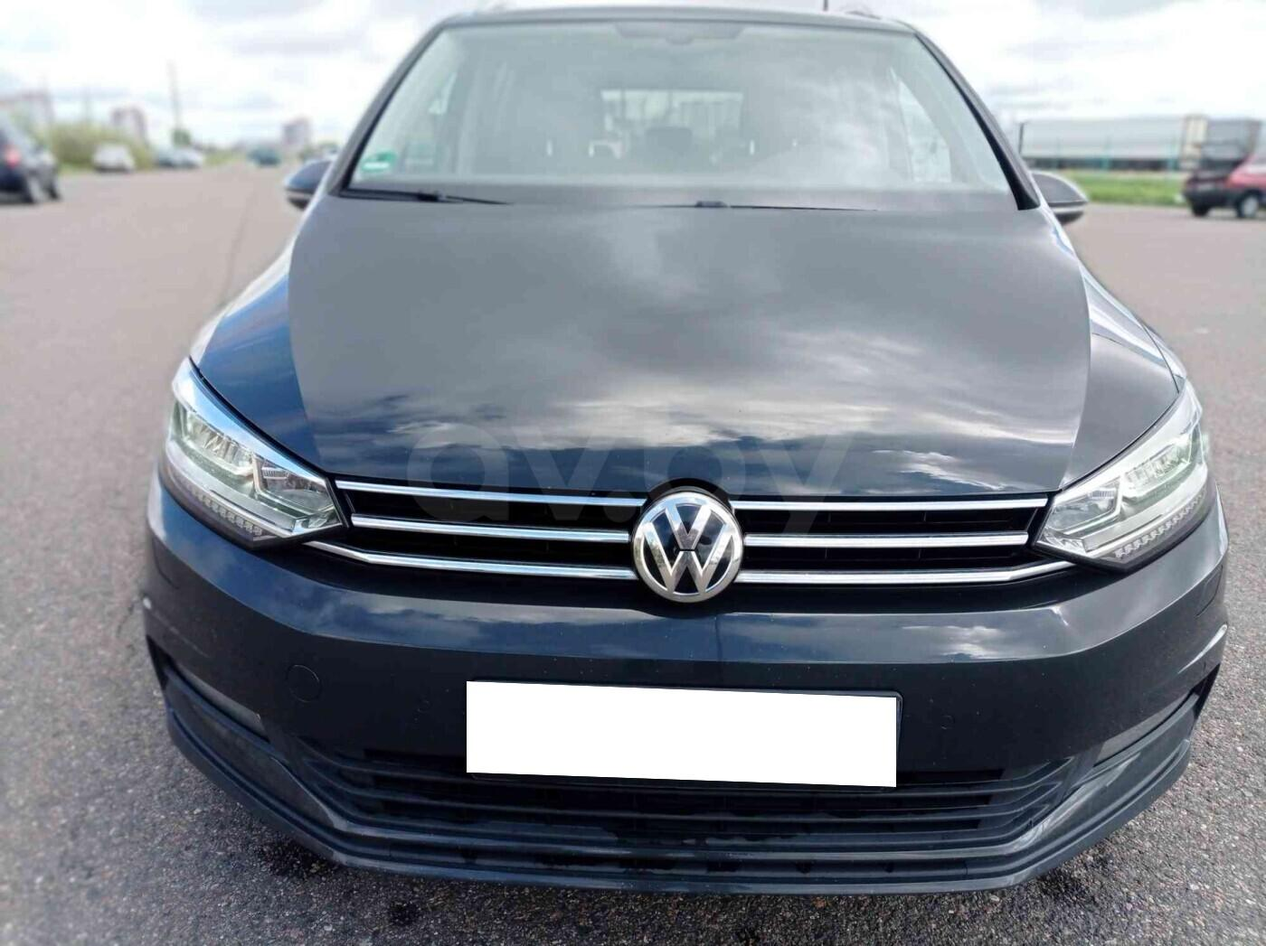Touran_2015: (145, 0, 1231, 891)
